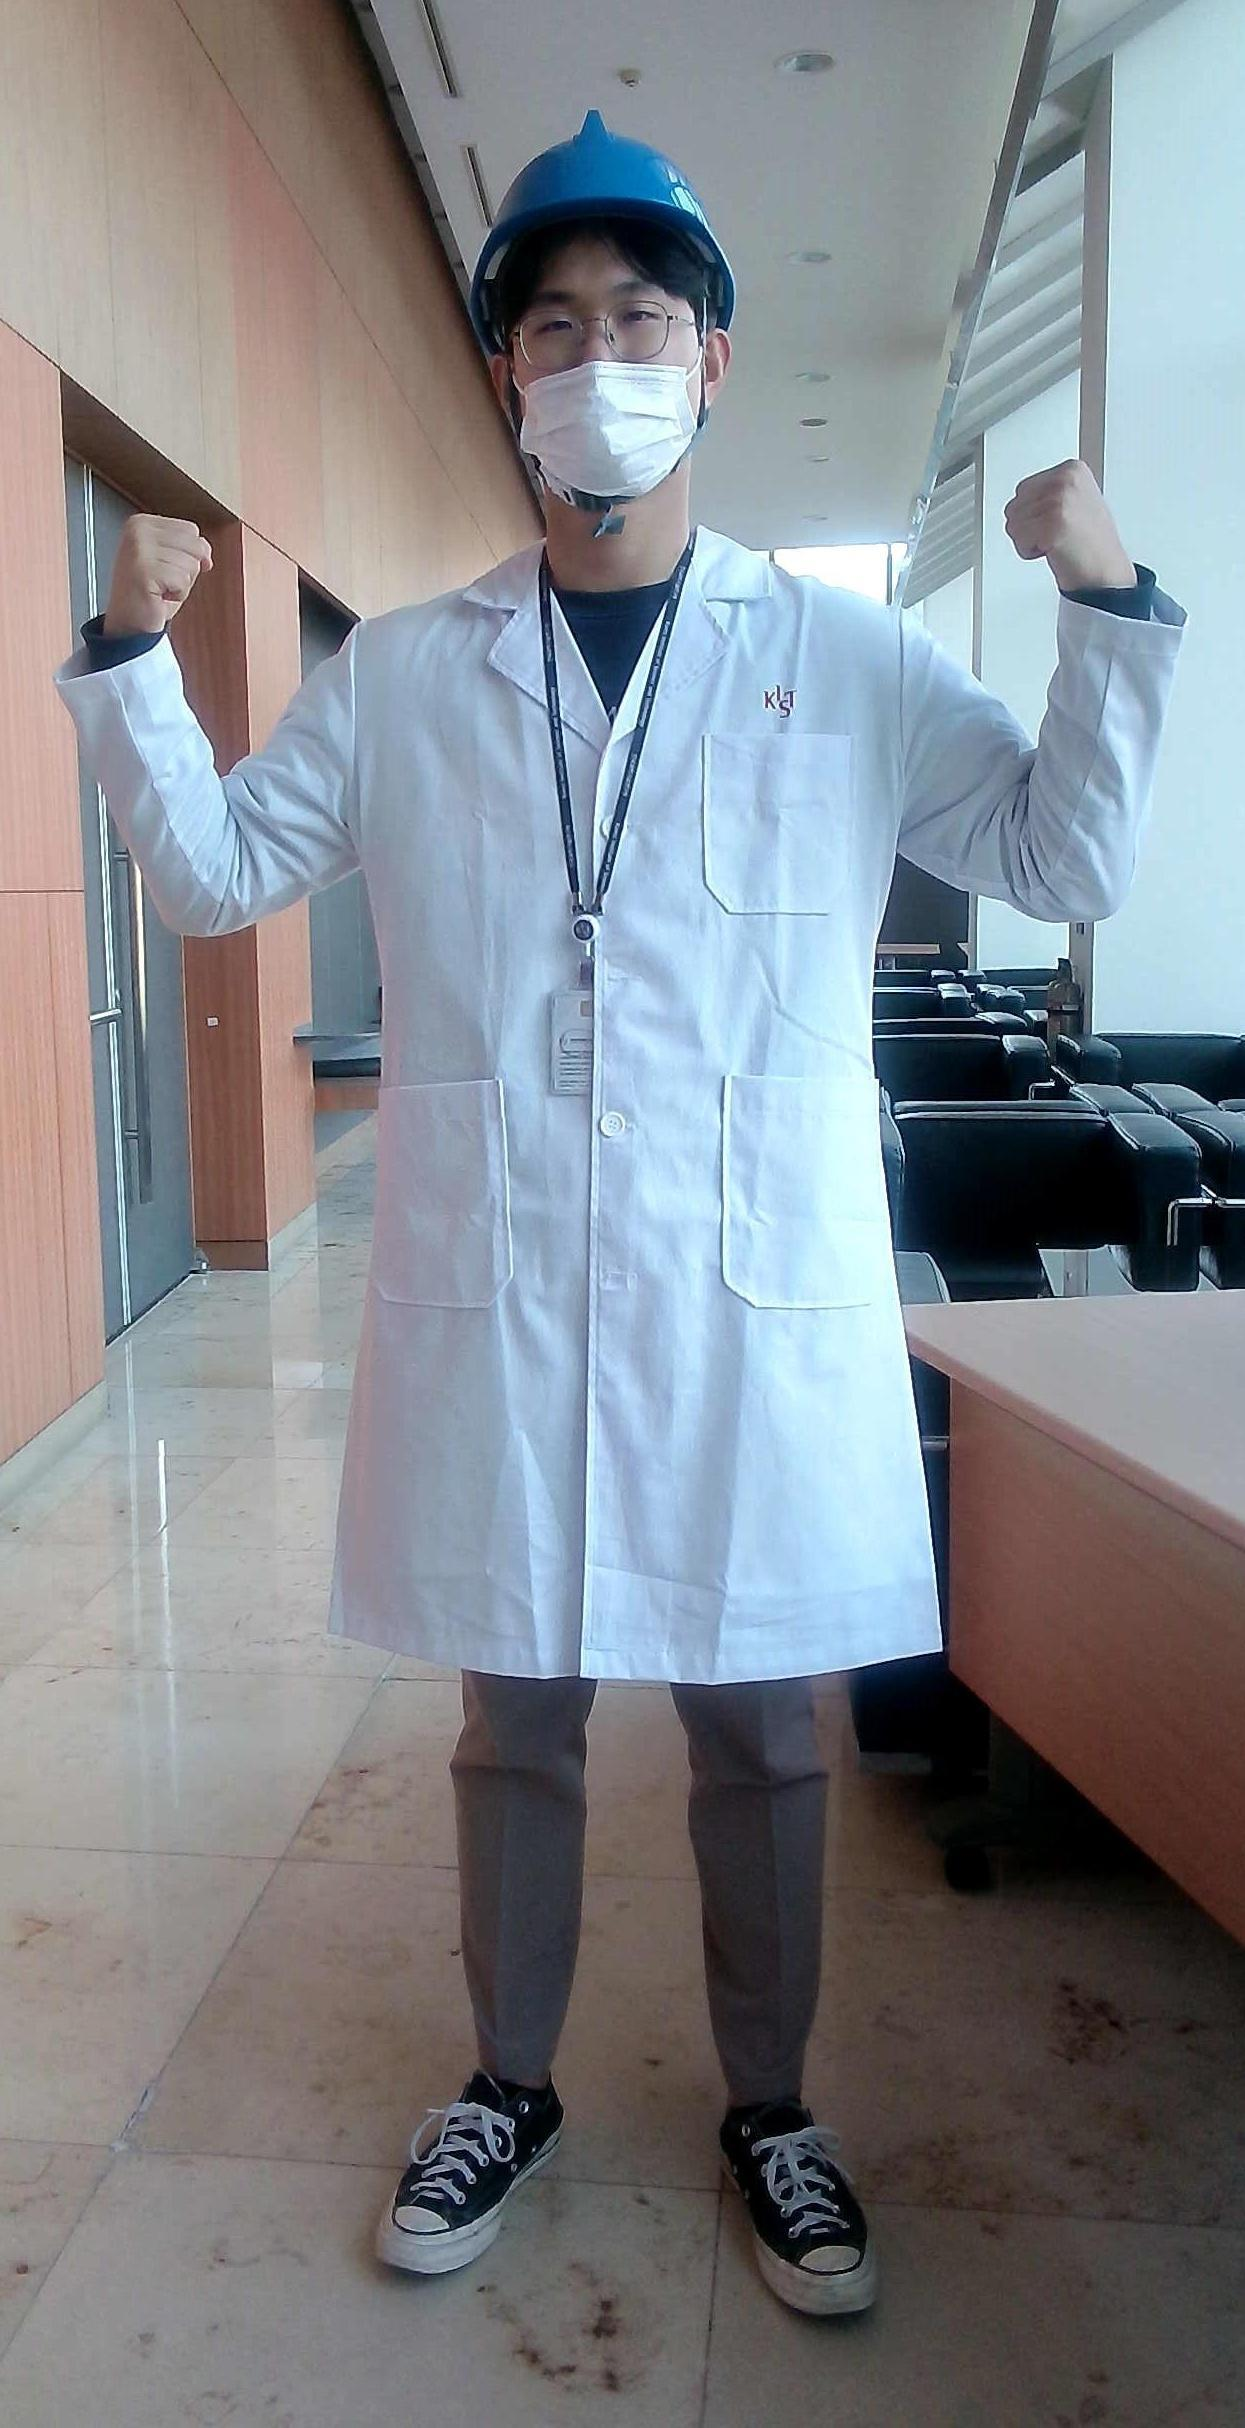lab_coat: (241, 595, 994, 1656)
